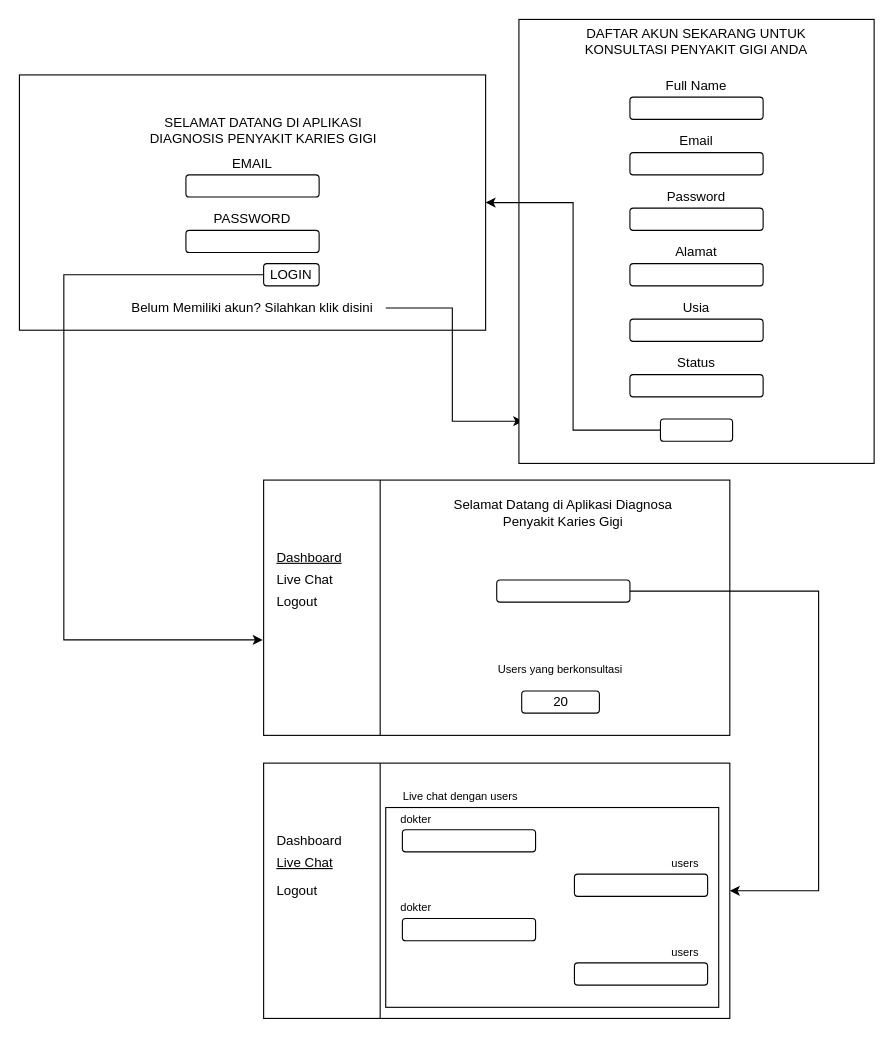
This 894x1039 diagram has some shape labels left out. The shapes that lost their labels are listed below. From the top down, each one's box as (x1, y1, x2, y2) in pixels, then its label:
(659, 418, 733, 441): Register
(496, 579, 630, 602): Start live Chat
